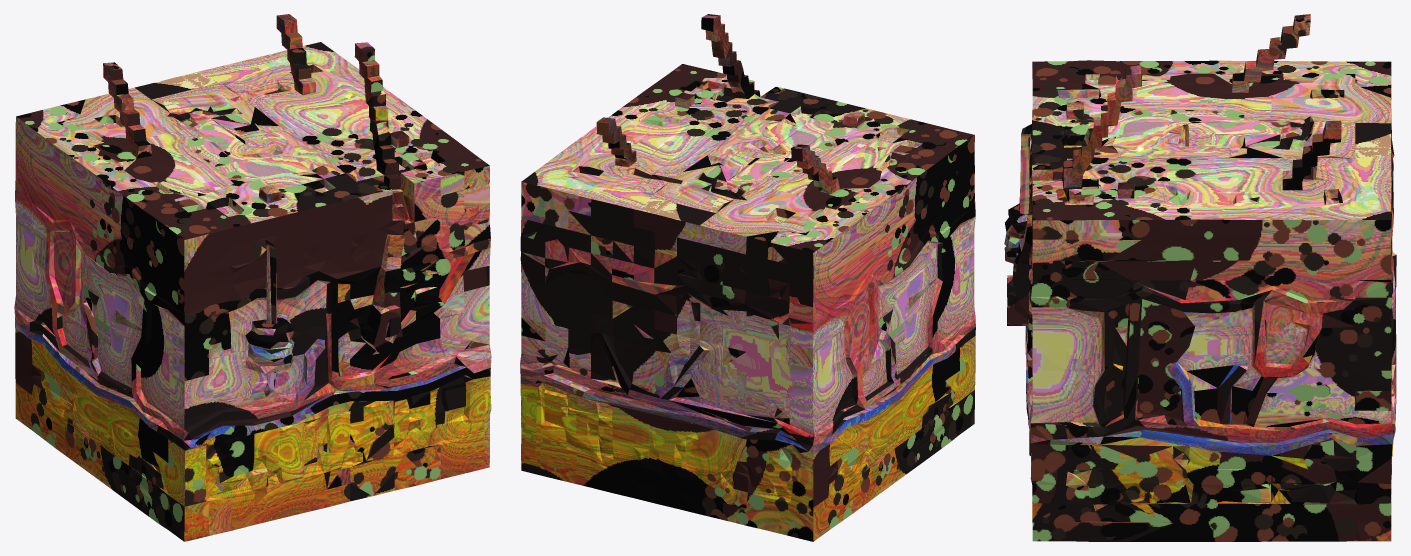
The picture shows the model from 3 angles, left to right: view 1: azimuth 30°, elevation 25°; view 2: azimuth 150°, elevation 25°; view 3: azimuth 270°, elevation 25°; orthographic projection. The views are drawn at different scales.
Visible parts, largest first — view 1: node_0; view 2: node_0; view 3: node_0.
Boxes of the visible parts, x1,y1,x2,y2 form: node_0: (14,14,491,541); node_0: (520,14,975,541); node_0: (1004,14,1396,541).
Bounding box in the file's own units: 0.6539 × 0.8045 × 0.6592.
Materials: 1 (1 with a texture image).
